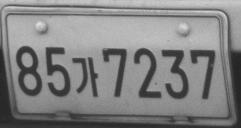2: (132, 46, 161, 98)
3: (162, 48, 189, 99)
5: (44, 46, 70, 97)
7: (101, 47, 127, 98), (189, 48, 215, 99)
8: (15, 44, 42, 97)
가: (71, 56, 98, 98)
